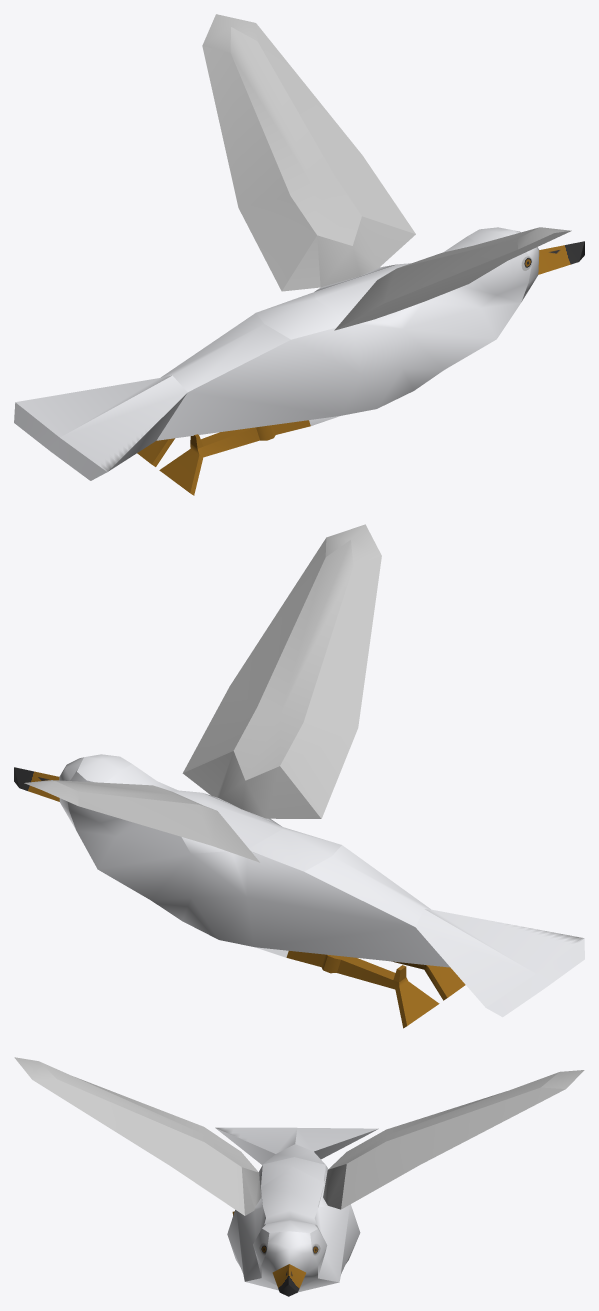
File: Flying_seagull.glb
The picture shows the model from 3 angles, top to bottom: view 1: azimuth 30°, elevation 25°; view 2: azimuth 150°, elevation 25°; view 3: azimuth 270°, elevation 25°; orthographic projection. The views are drawn at different scales.
Visible parts, largest first — view 1: Flying_seagull; view 2: Flying_seagull; view 3: Flying_seagull.
Boxes of the visible parts, bbox=[...] form: Flying_seagull: bbox=[14, 14, 584, 495]; Flying_seagull: bbox=[14, 524, 584, 1028]; Flying_seagull: bbox=[14, 1057, 584, 1296].
Bounding box in the file's own units: 82.16 × 44.24 × 88.47.
1 material, 1 textured.
